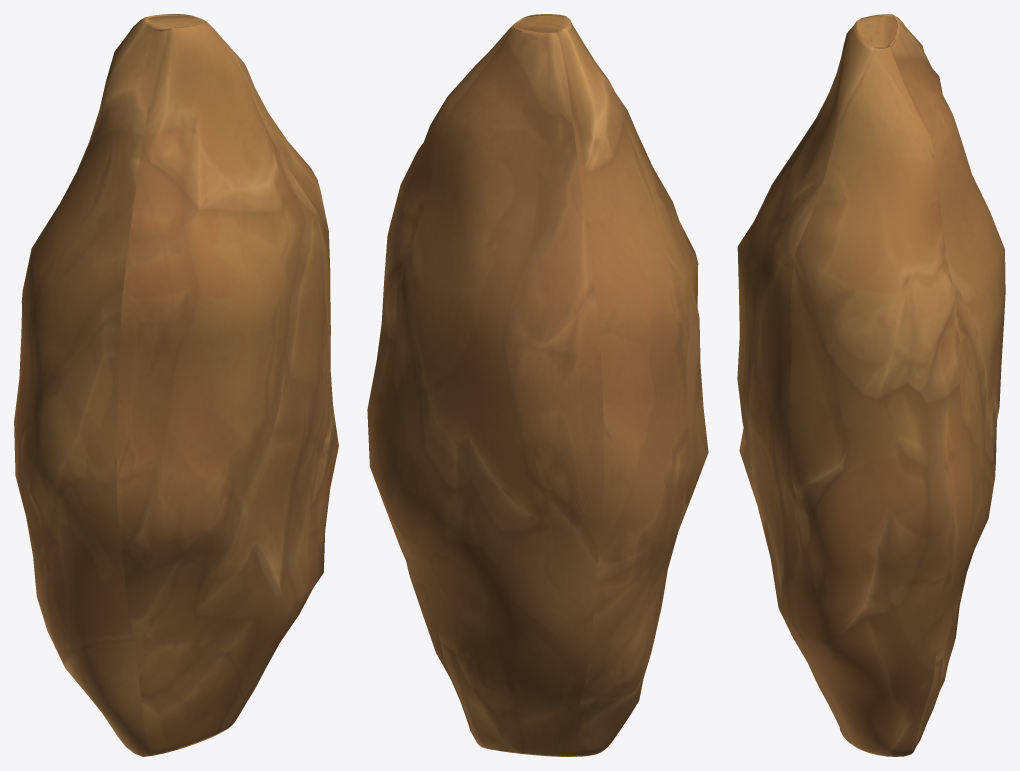
Rendered from Low_islands10.fbx.
3 views of the same model, side by side, from view 1: azimuth 30°, elevation 25°; view 2: azimuth 150°, elevation 25°; view 3: azimuth 270°, elevation 25° (orthographic). The views are drawn at different scales.
Visible parts, largest first — view 1: Cube.012; view 2: Cube.012; view 3: Cube.012.
Part boxes in pixels (x1,y1,x2,y2): Cube.012: (14, 14, 338, 756); Cube.012: (367, 14, 708, 756); Cube.012: (737, 14, 1005, 756).
Size of the model in its own units: 551 by 1252 by 430.
Materials: 1 (1 with a texture image).
